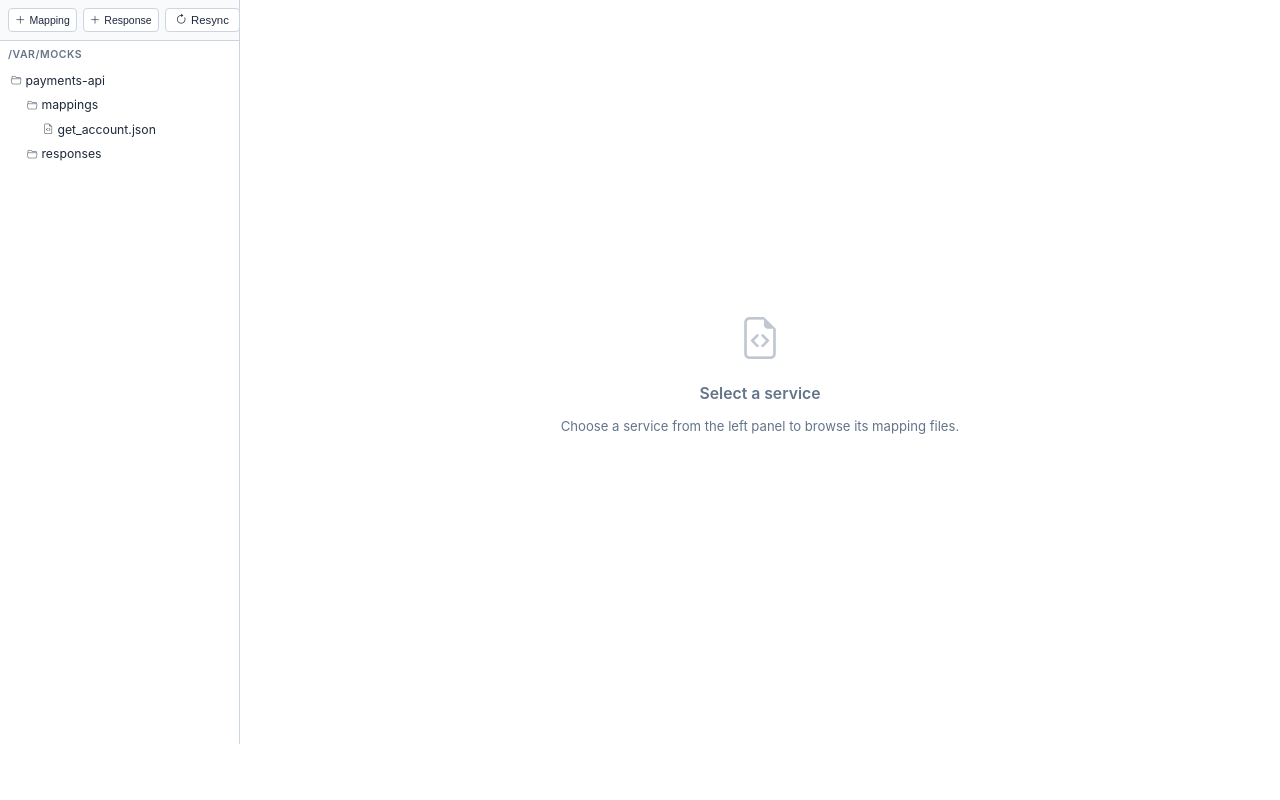
Test: MappingsPage — handleSaveSuccess updates lastKnownModified › after save, unsaved indicator clears from tree node
Expected: the text "payments-api" is shown, [25,73,105,88]
Click the list item with test id "mappings-tree-node-payments-api-get_account.json" at {"x": 99, "y": 130}, box [43,122,156,138]
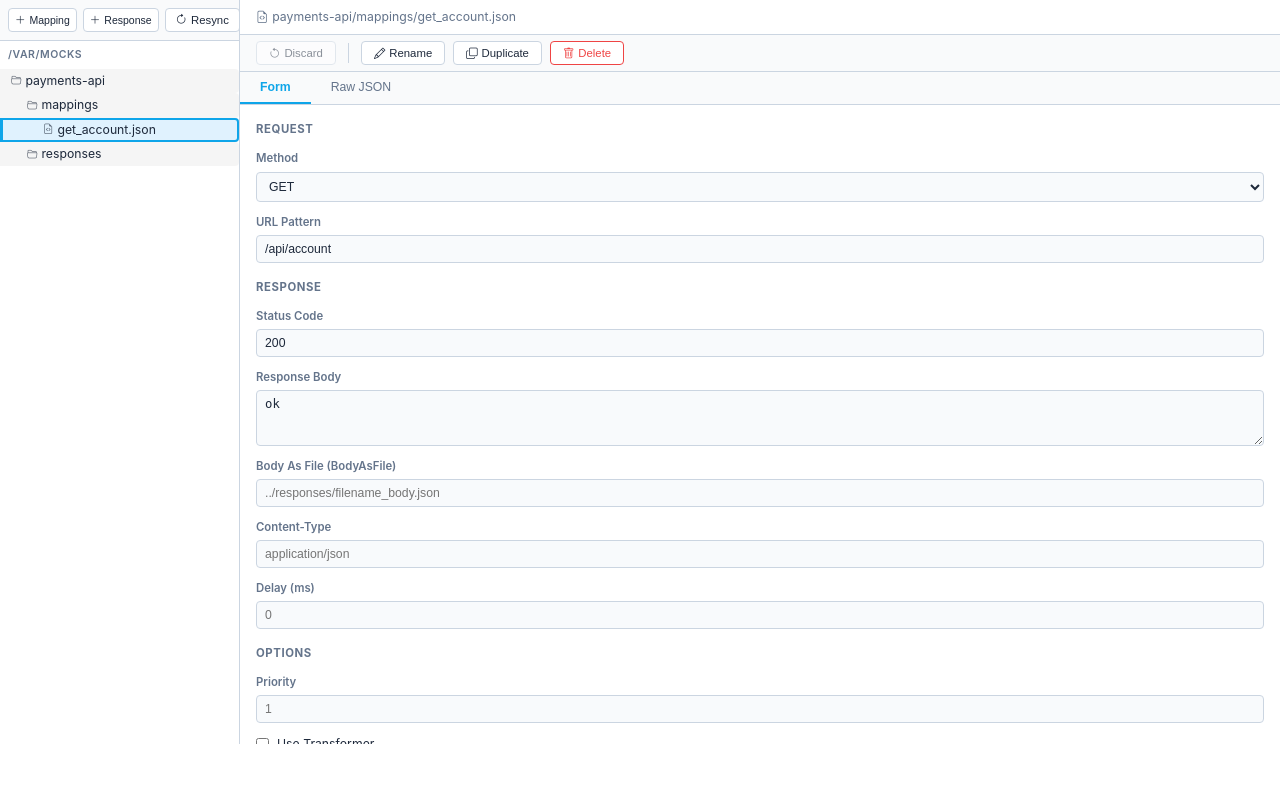
Result: the element with test id "mappings-breadcrumb-editor" is shown at [240,0,1279,35]
Click the tab with test id "mappings-tab-form" at {"x": 275, "y": 88}, box [240,72,311,104]
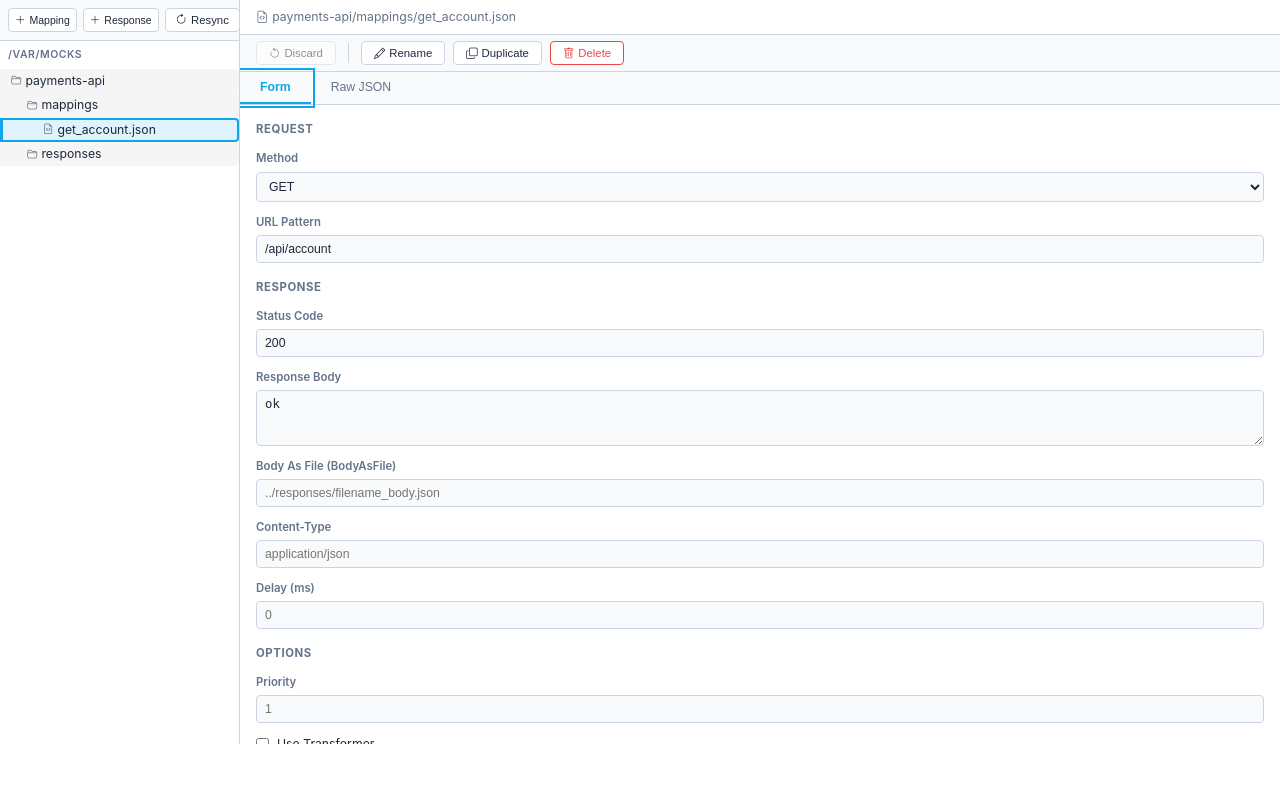
Type "418" into the number field labelled "Status Code" at {"x": 760, "y": 343}, box [256,329,1264,357]
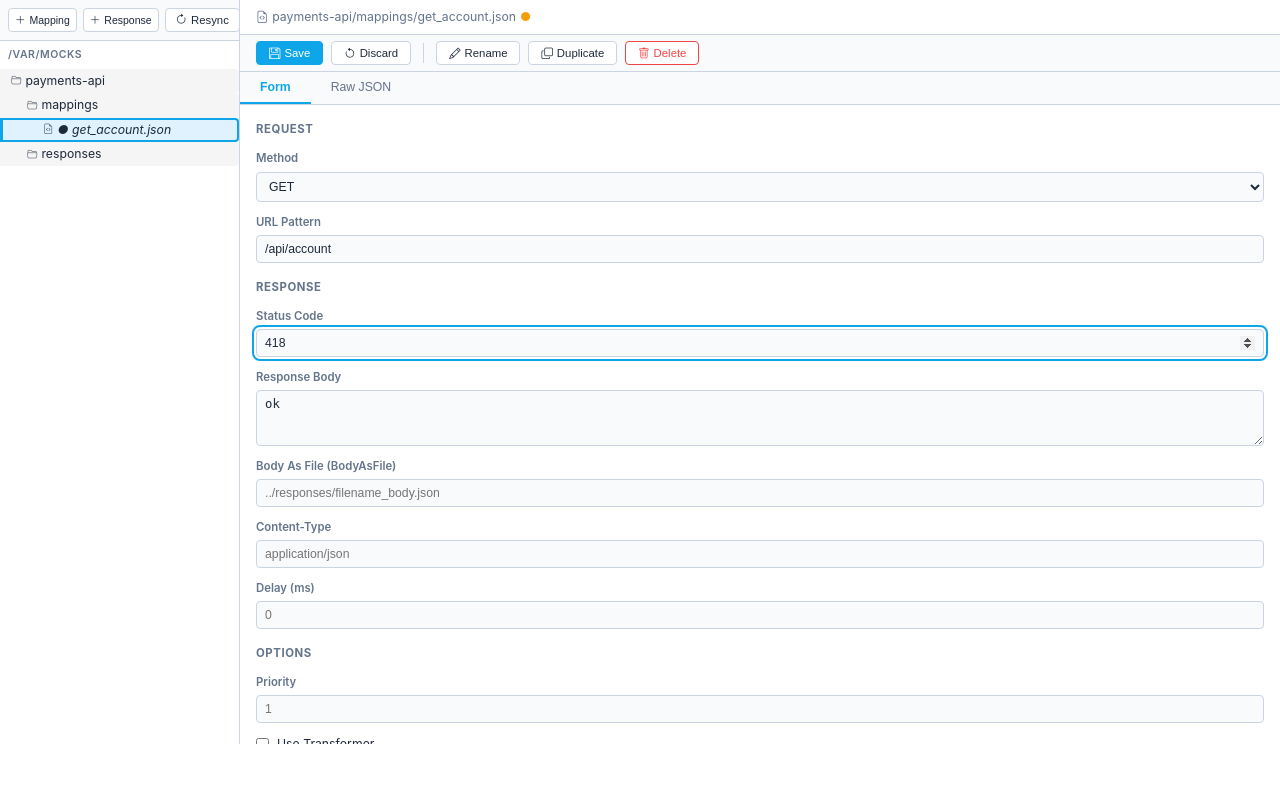
Click the button with test id "mappings-btn-save" at {"x": 290, "y": 53}, box [256,41,323,65]
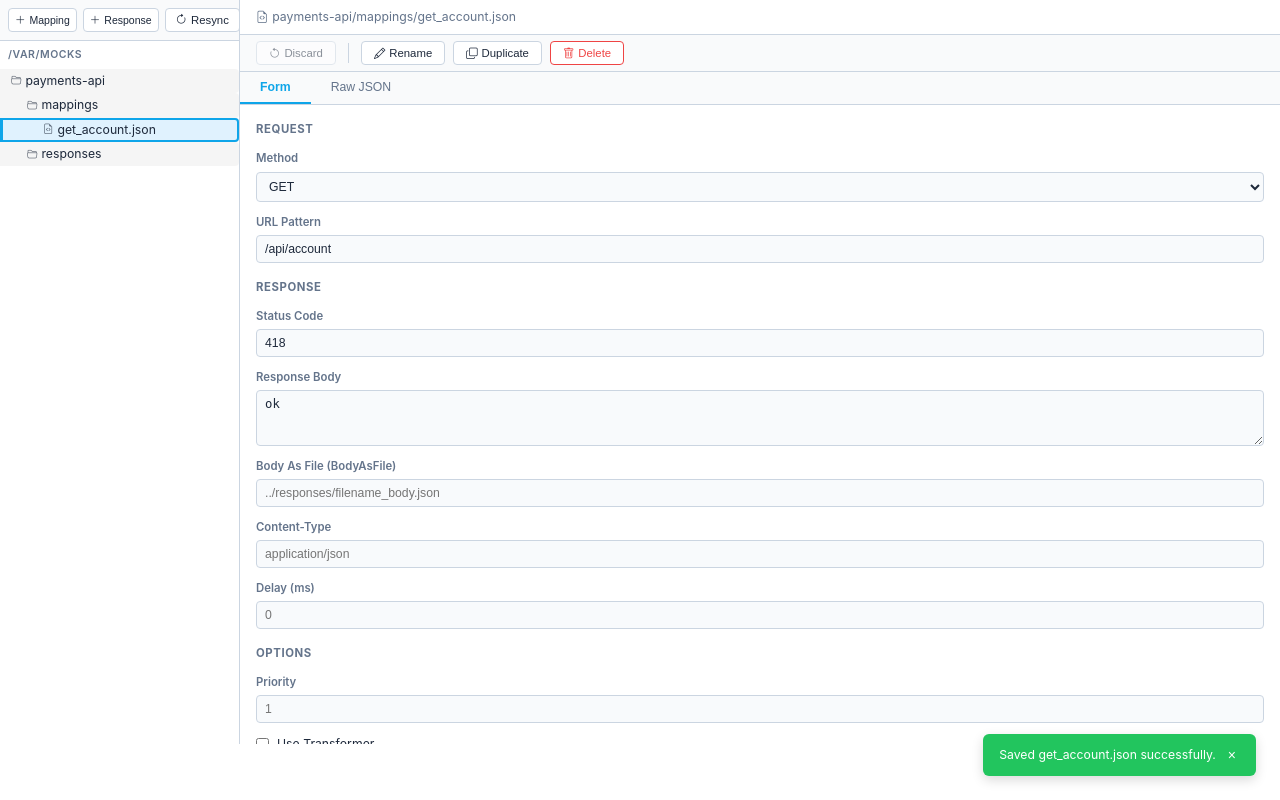
Result: the text with test id "mappings-tree-node-payments-api-get_account.json" no longer shows "●"
